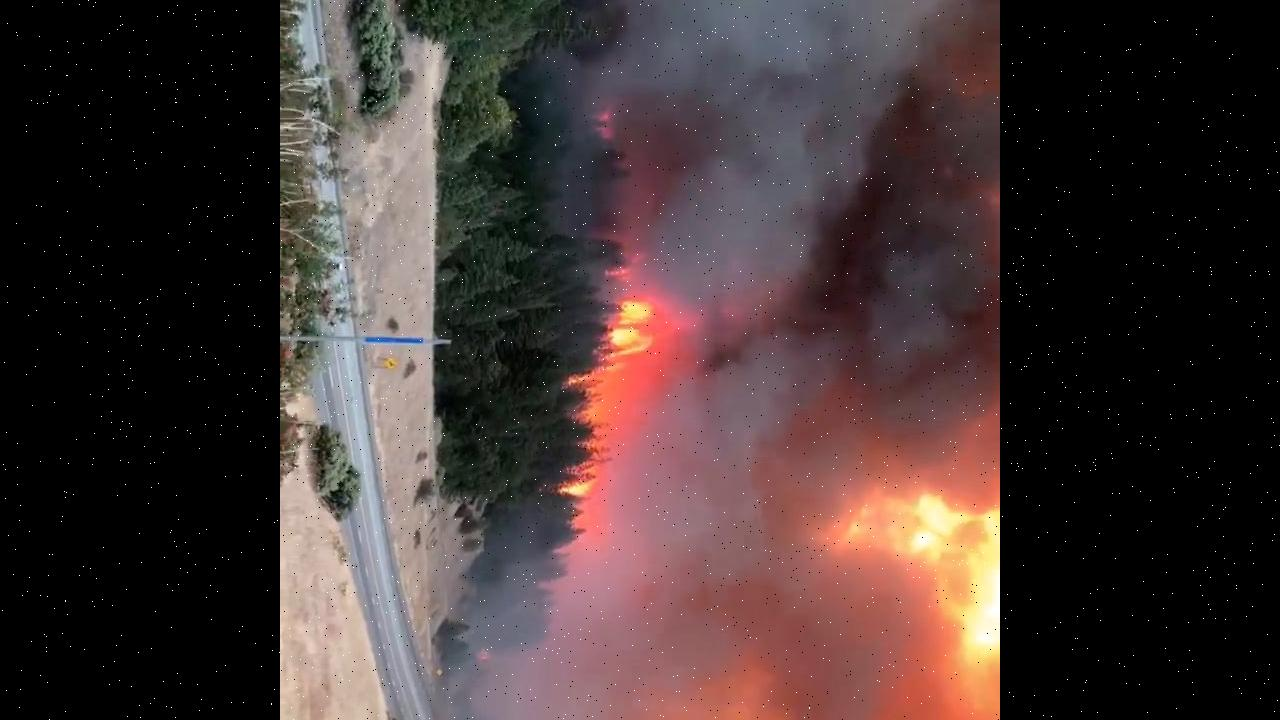fire: (562, 72, 702, 536)
